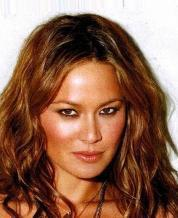face: (54, 100, 118, 163)
